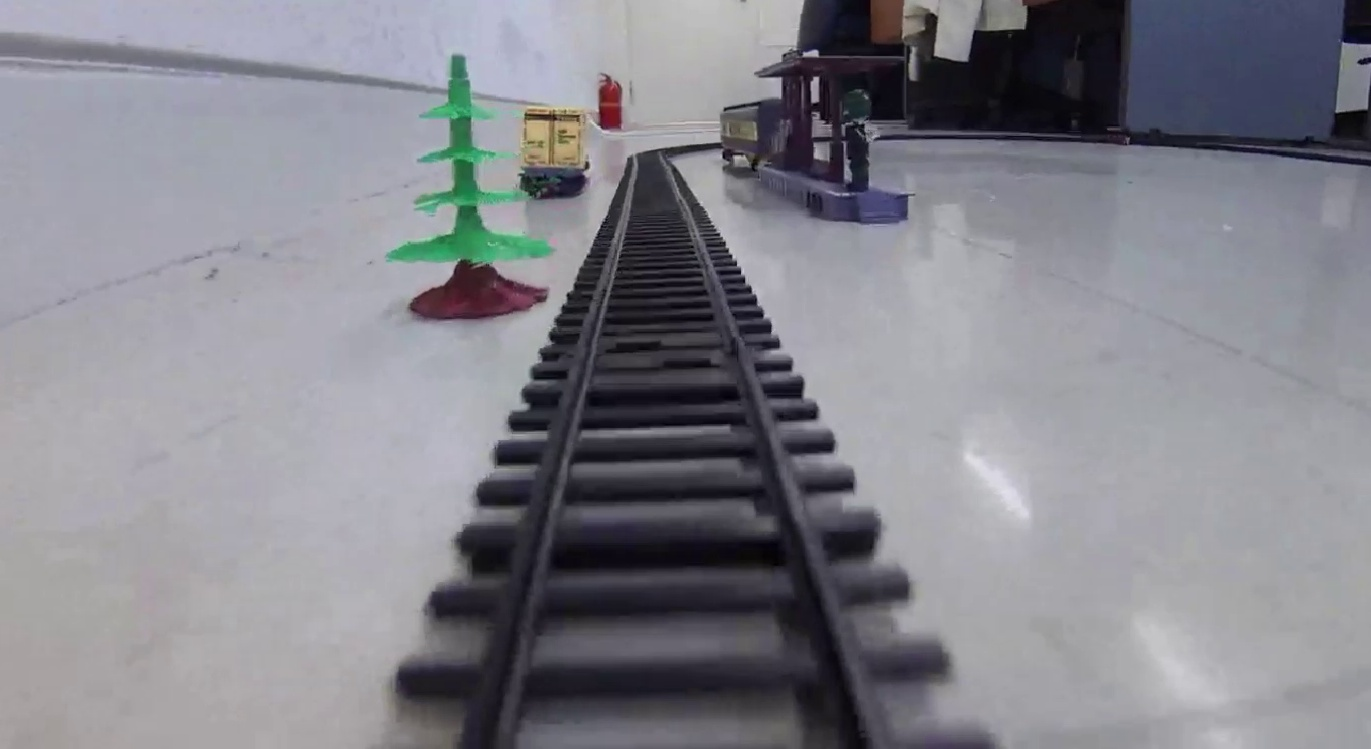people: (840, 90, 875, 192)
tree: (387, 56, 554, 323)
